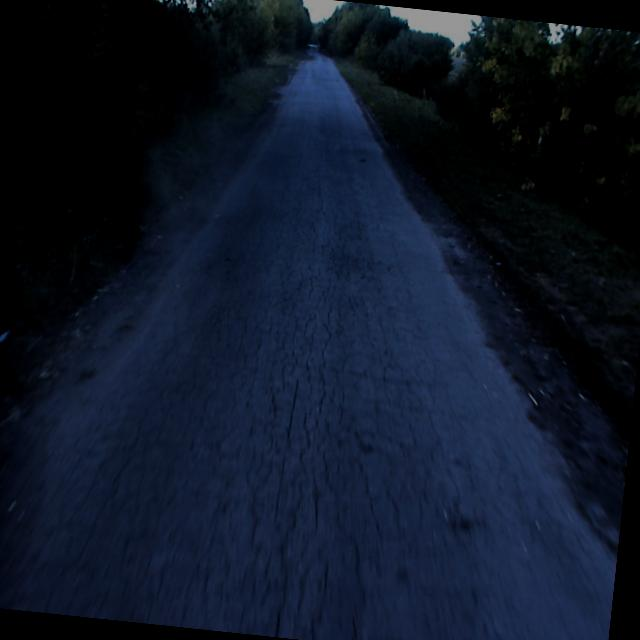road: (0, 43, 616, 640)
